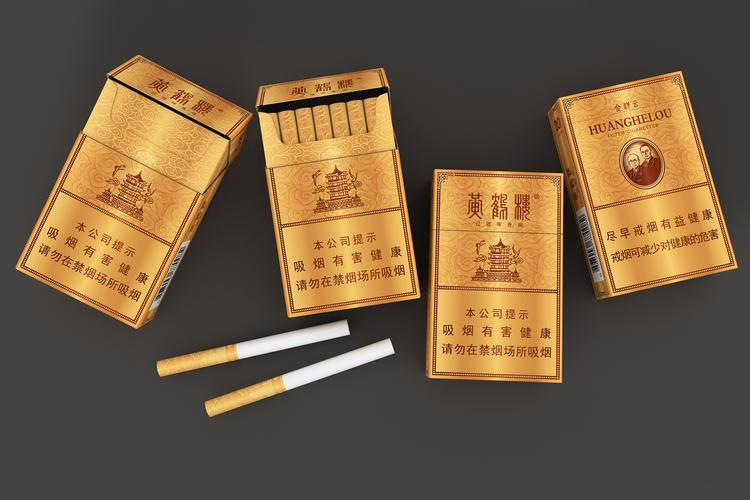smoke: (205, 338, 396, 416), (157, 320, 351, 376)
